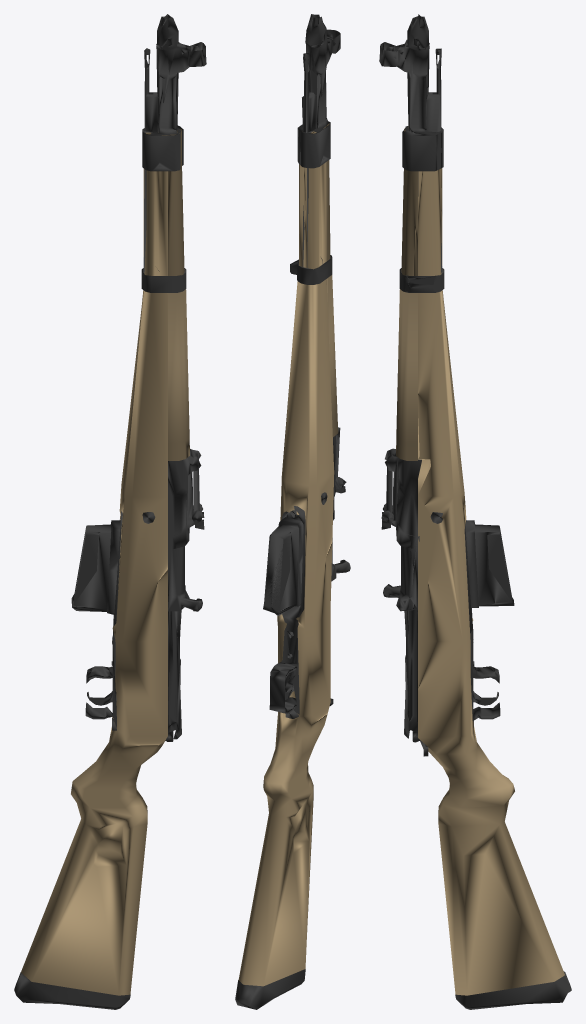
Rendered from gewehr_41.glb.
3 views of the same model, side by side, from view 1: azimuth 90°, elevation 25°; view 2: azimuth 150°, elevation 25°; view 3: azimuth 270°, elevation 25° (orthographic). The views are drawn at different scales.
Visible parts, largest first — view 1: body; view 2: body; view 3: body.
Part boxes in pixels (bbox=[...]): body: bbox=[14, 14, 206, 1009]; body: bbox=[235, 14, 350, 1009]; body: bbox=[379, 14, 571, 1009].
Bounding box in the file's own units: 0.0417 × 0.96 × 0.1692.
